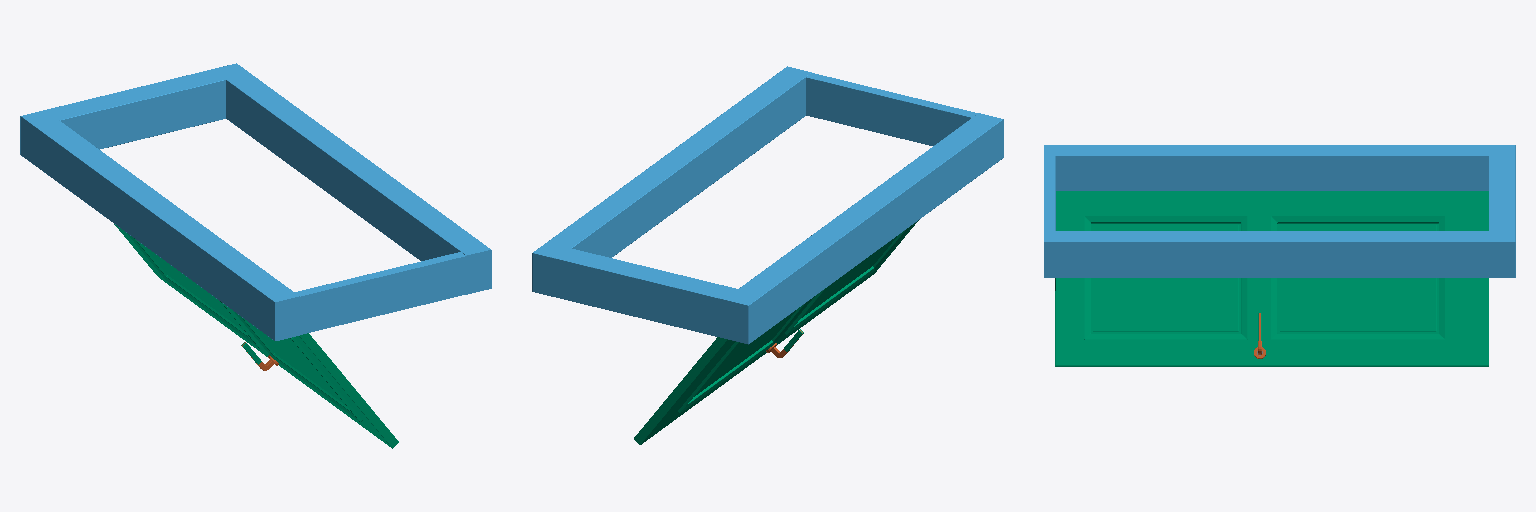
robot.urdf — 214:
<robot name="214">


	<link name="0:virtual">
		<visual>
			<origin xyz="0.0 0.0 0.0" rpy="0 0 0"/>
			<geometry>
				<cylinder length="0" radius="0"/>
			</geometry>
		</visual>
	</link>


	<link name="1:static">
		<visual>
			<origin xyz="-0.0 -0.0 -0.0" rpy="0 0 0"/>
			<geometry>
				<mesh filename="../raw_data/214/part_meshes/1.dae" />
			</geometry>
		</visual>
	</link>


	<link name="2:door 1">
		<visual>
			<origin xyz="0.4181701057416301 -1.05399999606597 0.08164643378002281" rpy="0 0 0"/>
			<geometry>
				<mesh filename="../raw_data/214/part_meshes/2.dae" />
			</geometry>
		</visual>
	</link>


	<joint name="0:virtual::1:static" type="fixed">
		<parent link="0:virtual"/>
		<child link="1:static"/>
		<origin xyz="0.0 0.0 0.0" rpy="0 0 0"/>
	</joint>


	<joint name="0:virtual::2:door 1_rotation" type="revolute">
		<parent link="0:virtual"/>
		<child link="2:door 1"/>
		<origin xyz="-0.4181701057416301 1.05399999606597 -0.08164643378002281" rpy="0 0 0"/>
		<limit lower="-1.0210176124166828" upper="0.8011061266653973" effort="10" velocity="3"/>
		<axis xyz="0.0 1.0 0.0"/>
	</joint>


</robot>

--- Facts derived from the render (not from the file) ---
The picture shows the robot from 3 angles, left to right: view 1: azimuth 30°, elevation 25°; view 2: azimuth 150°, elevation 25°; view 3: azimuth 270°, elevation 25°; orthographic projection.
Model 214 with 3 links and 2 joints (1 revolute, 1 fixed), rooted at 0:virtual, posed all joints at 0.
Visible links, largest first — view 1: 1:static, 2:door 1; view 2: 1:static, 2:door 1; view 3: 2:door 1, 1:static.
Boxes of the visible links, left/top/right/bottom form: 1:static: left=20, top=63, right=491, bottom=340; 2:door 1: left=114, top=224, right=398, bottom=448; 1:static: left=532, top=66, right=1003, bottom=344; 2:door 1: left=634, top=220, right=918, bottom=444; 2:door 1: left=1055, top=191, right=1488, bottom=366; 1:static: left=1044, top=145, right=1515, bottom=277.
Bounding box of the posed robot: 1.04 × 2.12 × 0.83 m (x, y, z).
2 mesh visuals loaded from 2 distinct referenced files (2 Collada DAE).